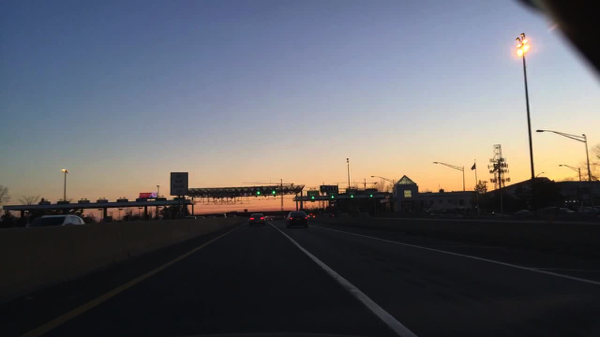car: (26, 214, 85, 230), (285, 210, 309, 229), (538, 206, 574, 218), (247, 213, 266, 228), (577, 206, 599, 218), (513, 209, 534, 217), (185, 213, 197, 220), (308, 213, 317, 220), (267, 216, 274, 222), (218, 213, 227, 217), (326, 212, 332, 218), (199, 215, 206, 220), (231, 213, 236, 218), (282, 213, 286, 218), (207, 216, 216, 218)
traffic light: (272, 191, 277, 195), (311, 195, 315, 200), (330, 194, 334, 199), (369, 194, 374, 198), (256, 191, 260, 195), (350, 195, 354, 199)
traffic sign: (169, 171, 188, 195)
